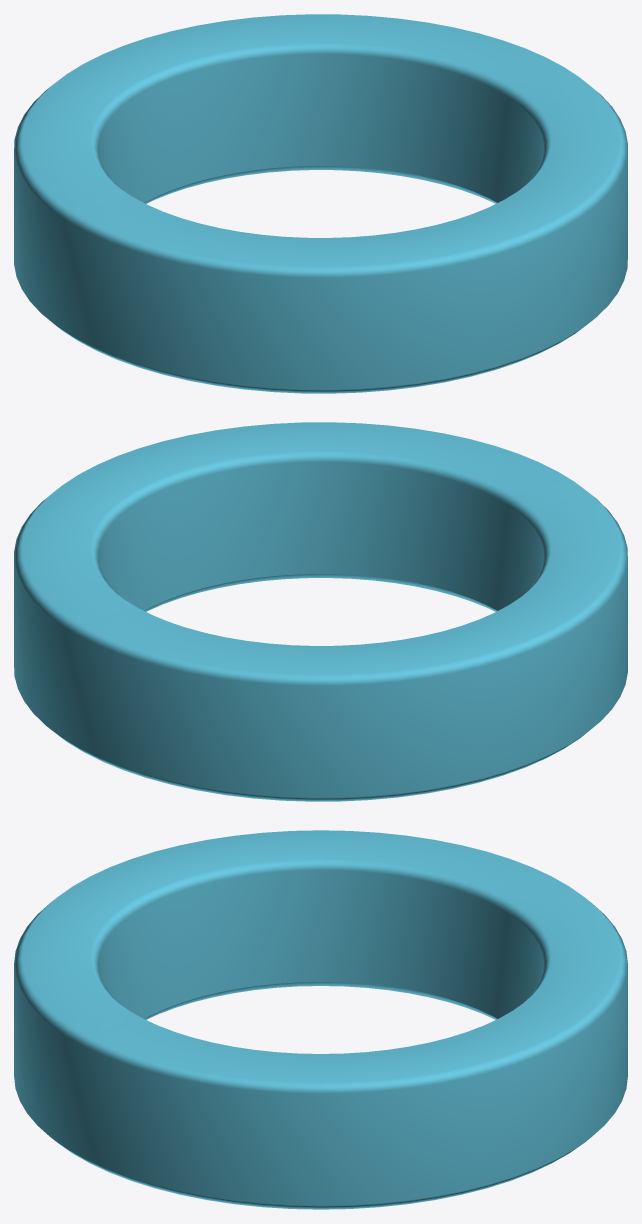
The picture shows the model from 3 angles, top to bottom: view 1: azimuth 30°, elevation 25°; view 2: azimuth 150°, elevation 25°; view 3: azimuth 270°, elevation 25°; orthographic projection.
Parts seen in each view (by area): view 1: seal_body; view 2: seal_body; view 3: seal_body.
Boxes of the visible parts, bbox=[...] form: seal_body: bbox=[14, 14, 627, 393]; seal_body: bbox=[14, 422, 627, 801]; seal_body: bbox=[14, 830, 627, 1209].
Size of the model in its own units: 0.046 by 0.0105 by 0.046.
